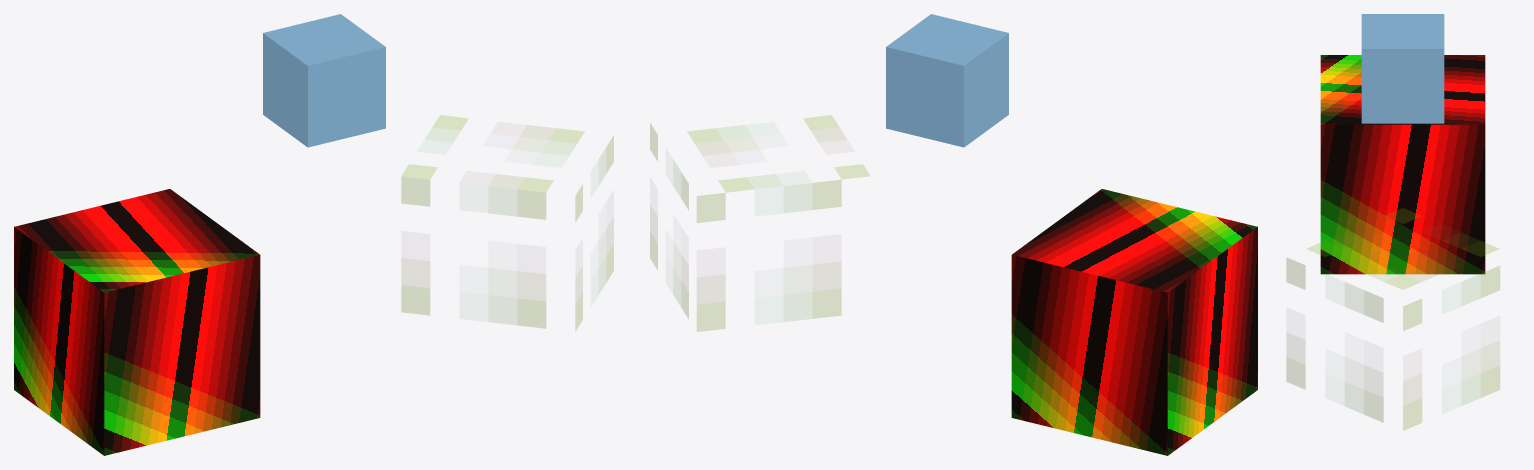
File: materials_lights.glb
3 views of the same model, side by side, from view 1: azimuth 30°, elevation 25°; view 2: azimuth 150°, elevation 25°; view 3: azimuth 270°, elevation 25° (orthographic). The views are drawn at different scales.
Bounding box in the file's own units: 3.61 × 1.95 × 1.41.
Materials: 3 (2 with a texture image).
